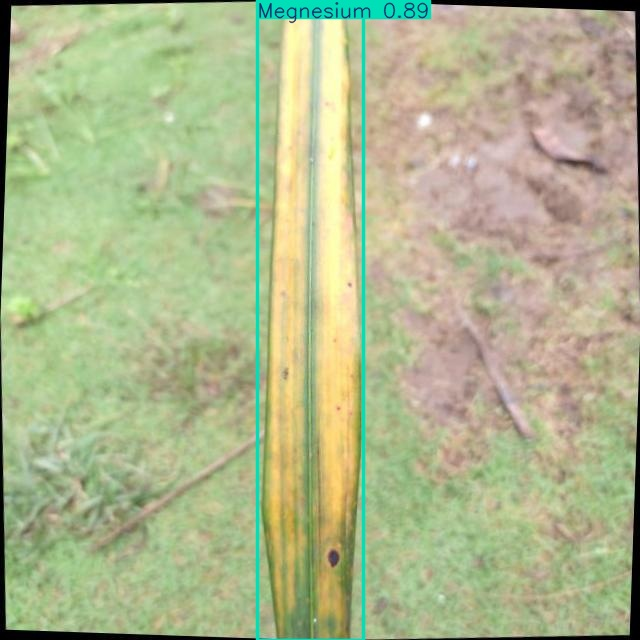Megnesium: (257, 0, 364, 640)
